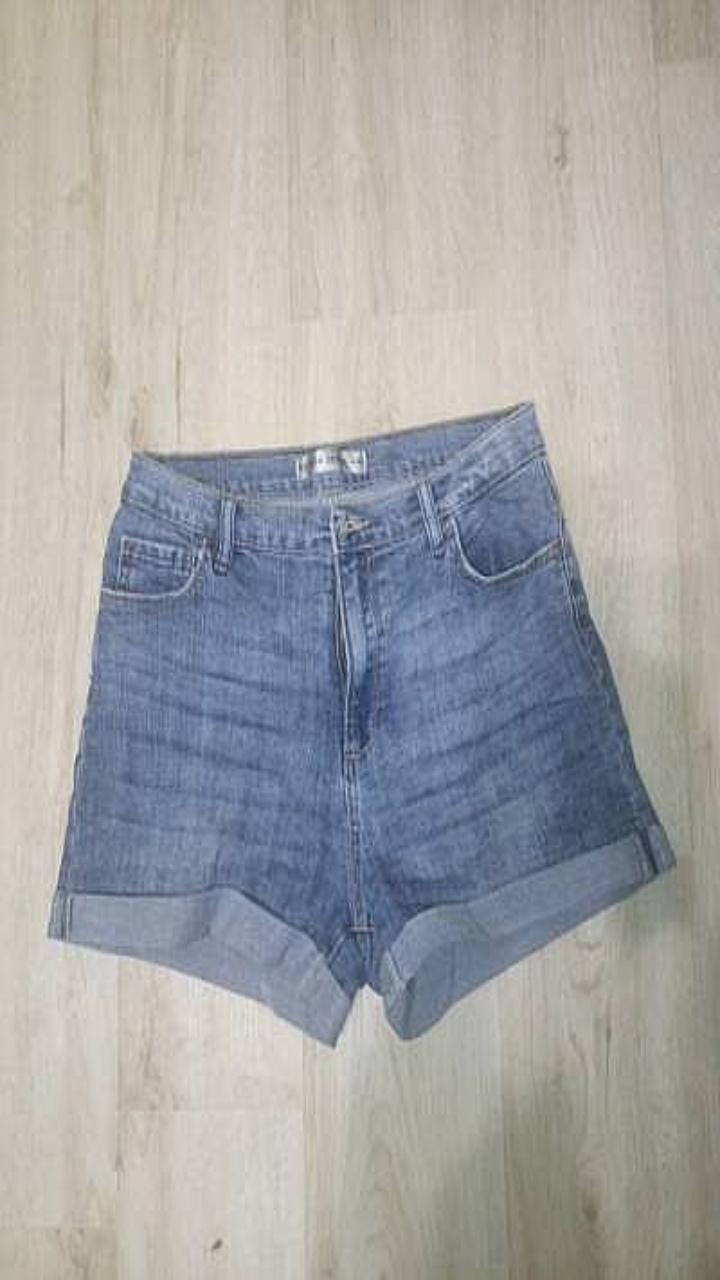Shorts: (47, 402, 675, 1044)
